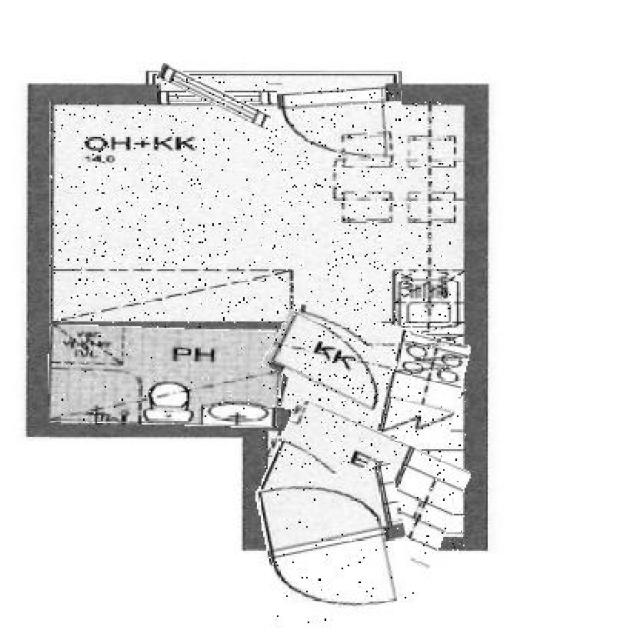door: (263, 469, 414, 626), (268, 320, 394, 406), (278, 86, 404, 166)
window: (156, 77, 272, 117)
zone: (49, 102, 451, 323), (263, 414, 465, 554), (49, 326, 280, 426), (282, 316, 466, 438)
